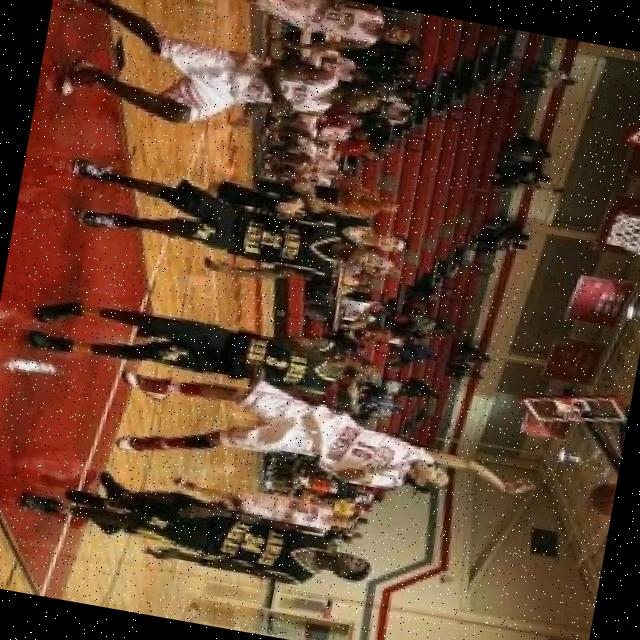ball: (583, 475, 617, 519)
